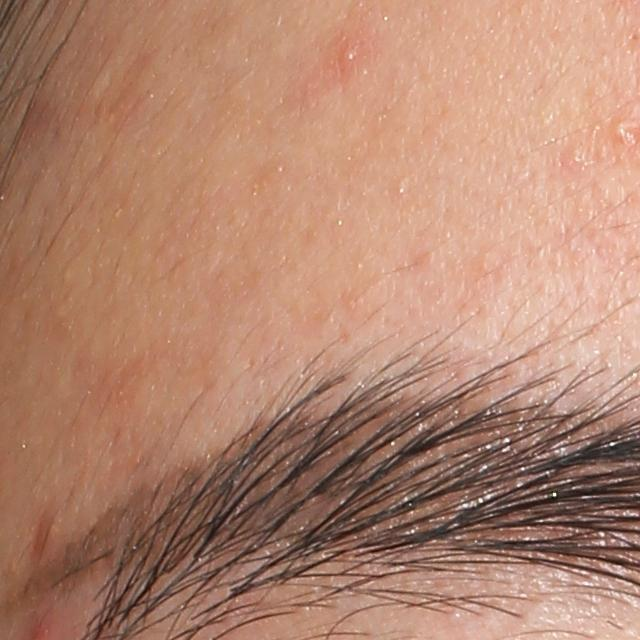comedo: (392, 177, 409, 197)
papule: (341, 43, 362, 68)
pustule: (612, 117, 635, 141)
